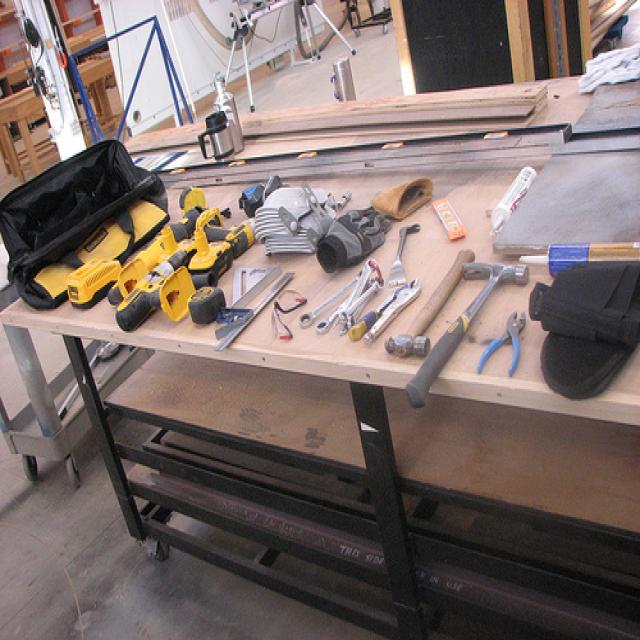hammer: (392, 236, 512, 408)
